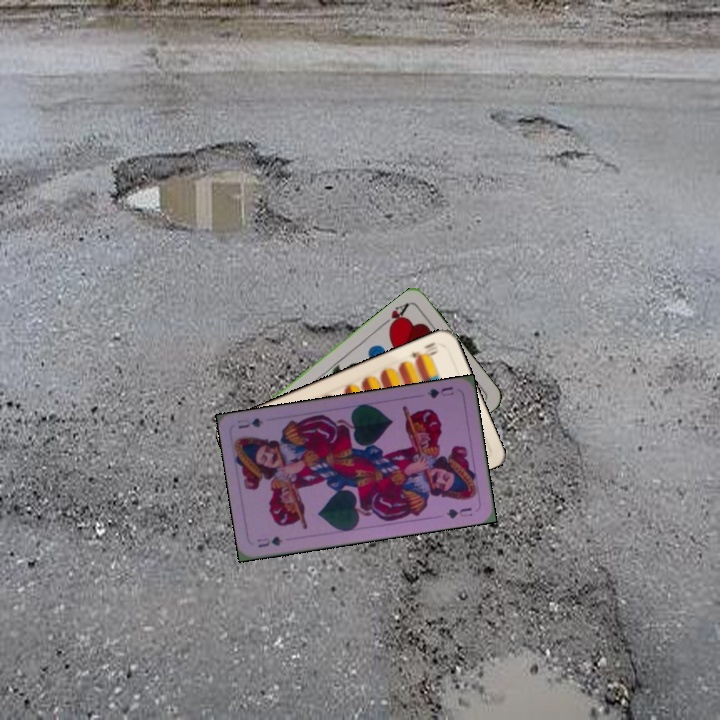E10: (407, 338, 440, 365)
GU: (423, 383, 456, 401), (253, 532, 285, 550)
HA: (378, 299, 412, 332)
